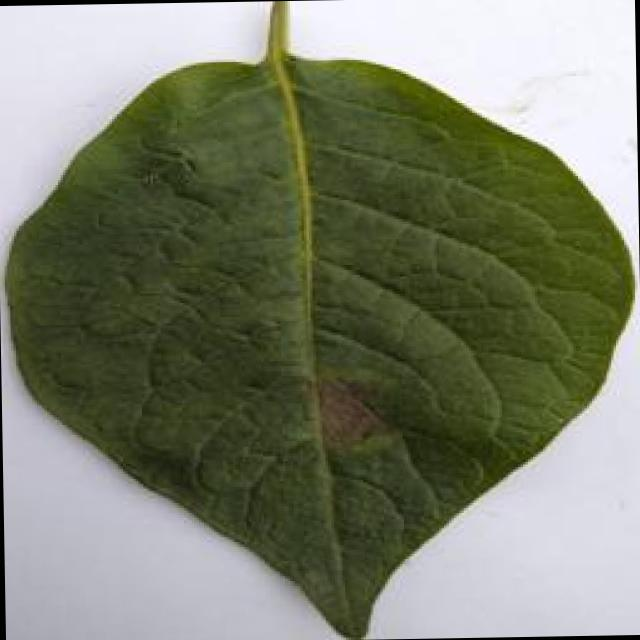Potato_Late_Blight: (4, 3, 631, 640)
